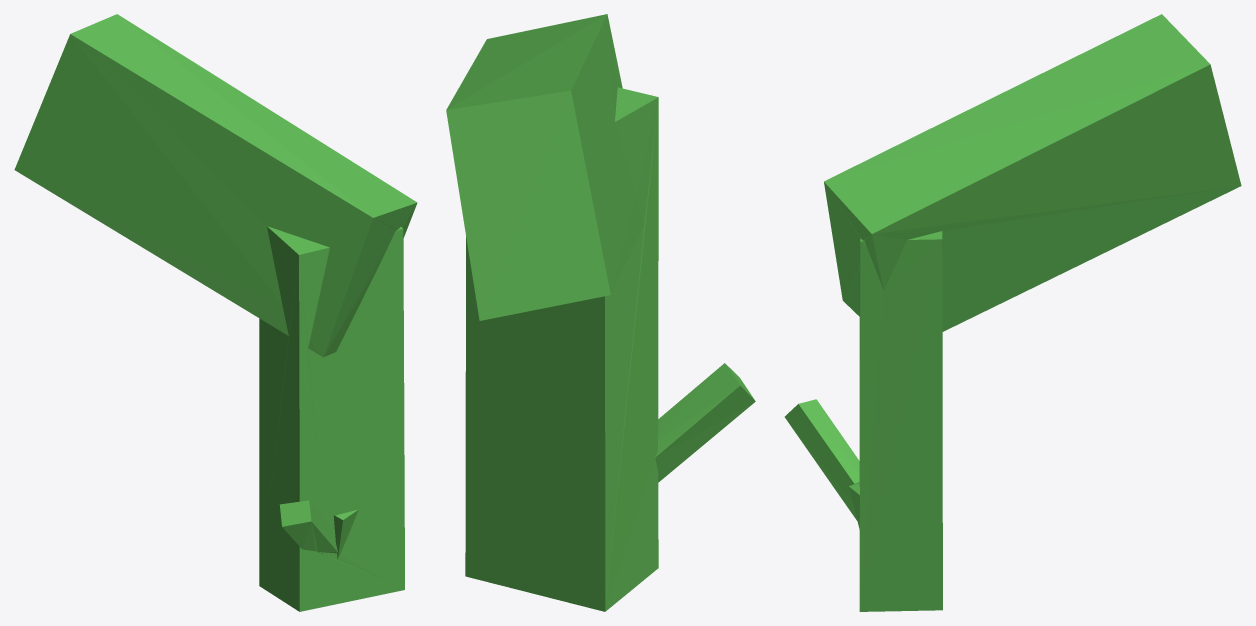
3 views of the same model, side by side, from view 1: azimuth 30°, elevation 25°; view 2: azimuth 150°, elevation 25°; view 3: azimuth 270°, elevation 25° (orthographic). The views are drawn at different scales.
Parts seen in each view (by area): view 1: 891_Cube.3597; view 2: 891_Cube.3597; view 3: 891_Cube.3597.
Boxes of the visible parts, bbox=[...] form: 891_Cube.3597: bbox=[14, 14, 417, 611]; 891_Cube.3597: bbox=[446, 14, 755, 611]; 891_Cube.3597: bbox=[784, 14, 1241, 611].
Size of the model in its own units: 8.67 by 16.45 by 13.51.
